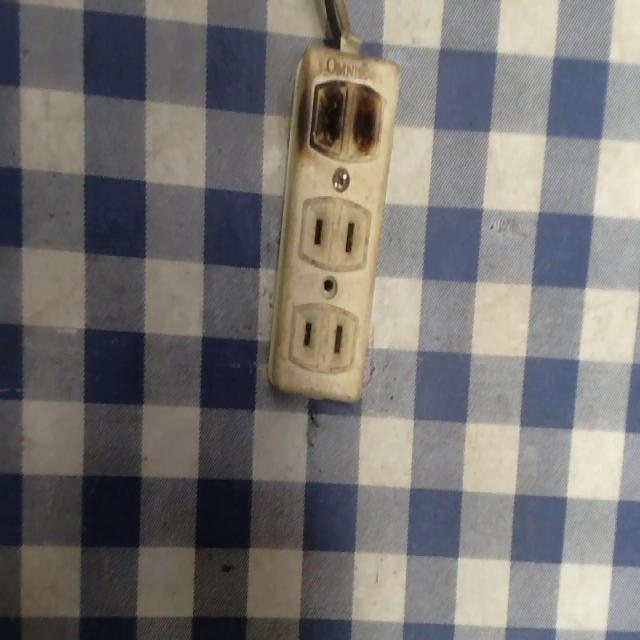-: (305, 75, 389, 161)
